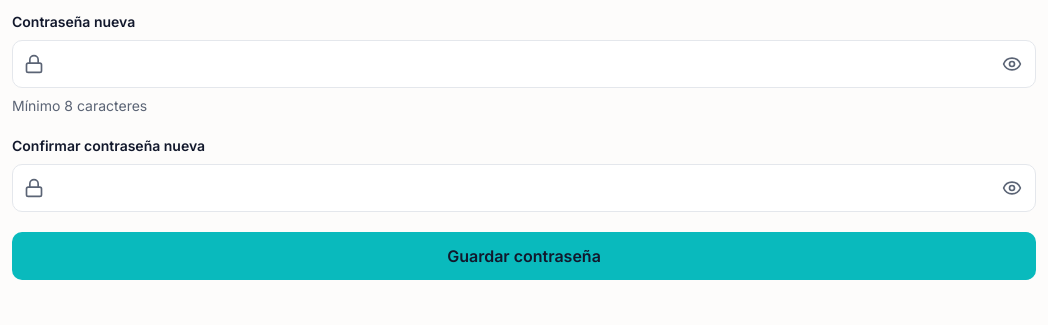
Test: T-320: ResetPasswordForm — Formulario de cambio de contraseña › Estado con sesión de recuperación › valida que la contraseña tenga al menos 8 caracteres y que coincidan
# Demasiado corta
Type "short" into the password field labelled "Contraseña nueva" at (524, 64), box [12,40,1036,88]
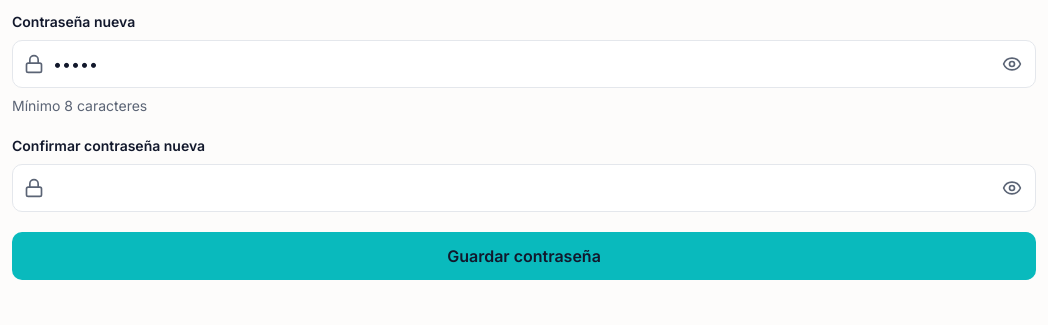
Type "short" into the password field labelled "Confirmar contraseña nueva" at (524, 188), box [12,164,1036,212]
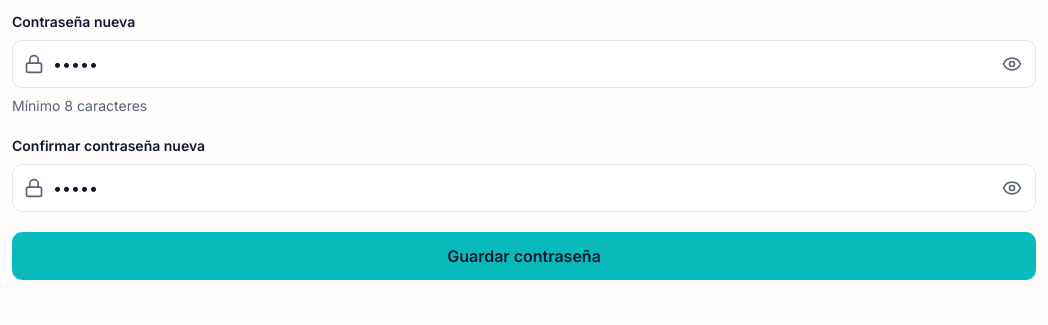
Click the button "Guardar contraseña" at (524, 256), box [12,232,1036,280]
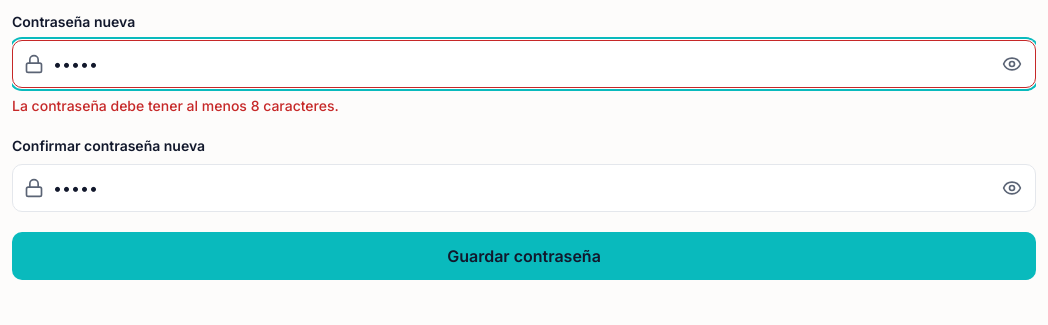
Expected: the text "La contraseña debe tener al menos 8 caracteres." is shown, [12,97,339,114]
# No coinciden
Type "passwordSegura1" into the password field labelled "Contraseña nueva" at (524, 64), box [12,40,1036,88]
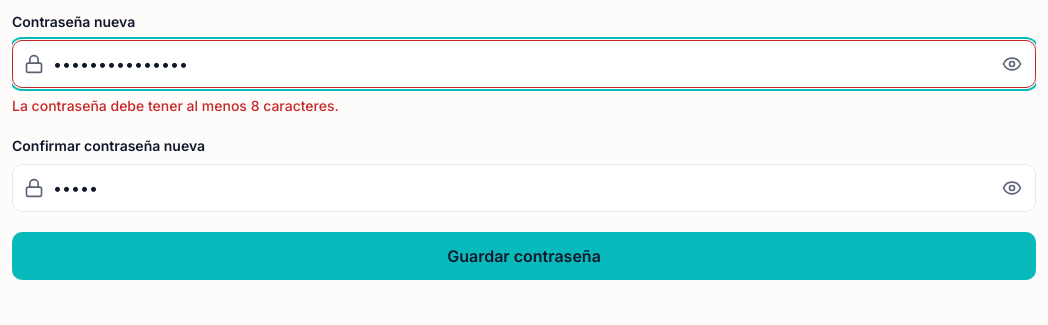
Type "passwordDiferente2" into the password field labelled "Confirmar contraseña nueva" at (524, 188), box [12,164,1036,212]
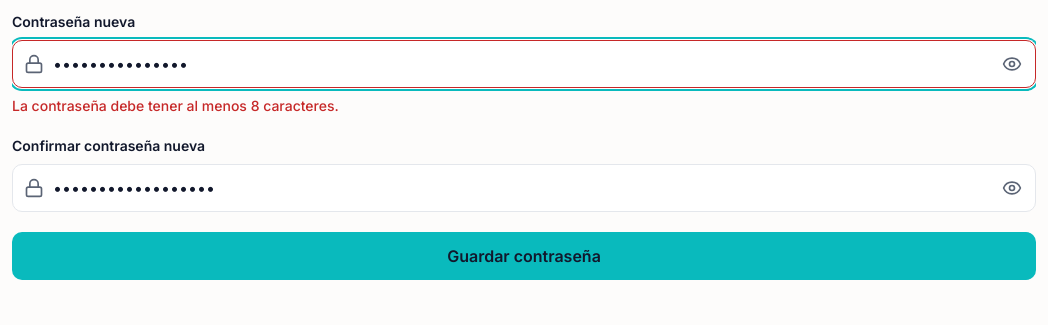
Click the button "Guardar contraseña" at (524, 256), box [12,232,1036,280]
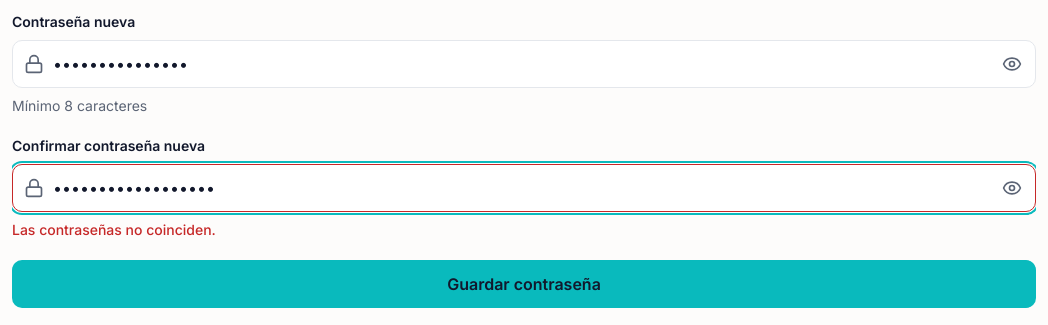
Expected: the text "Las contraseñas no coinciden." is shown, [12,221,216,238]
